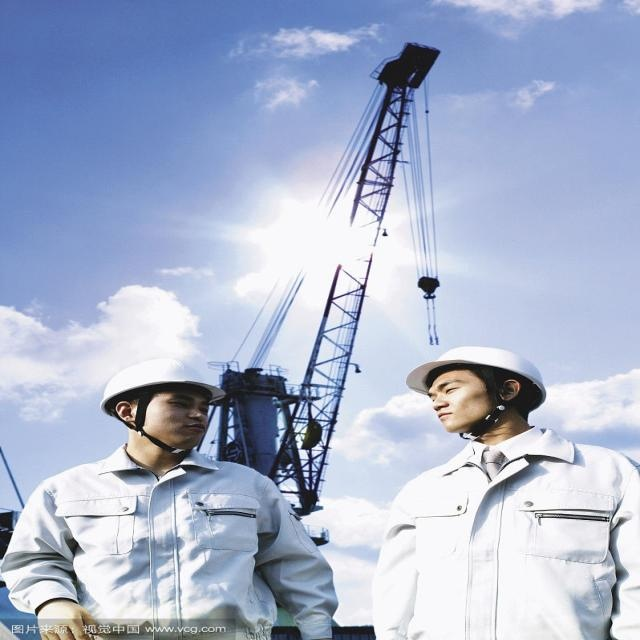Con_Casco: (404, 348, 548, 423), (99, 361, 224, 441)
Sin_Chaleco: (7, 458, 349, 640), (373, 449, 640, 640)
